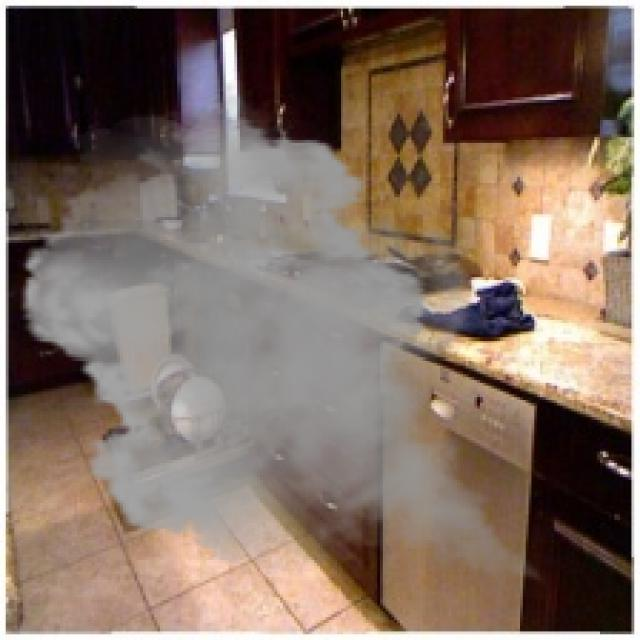smoke: (6, 80, 571, 594)
